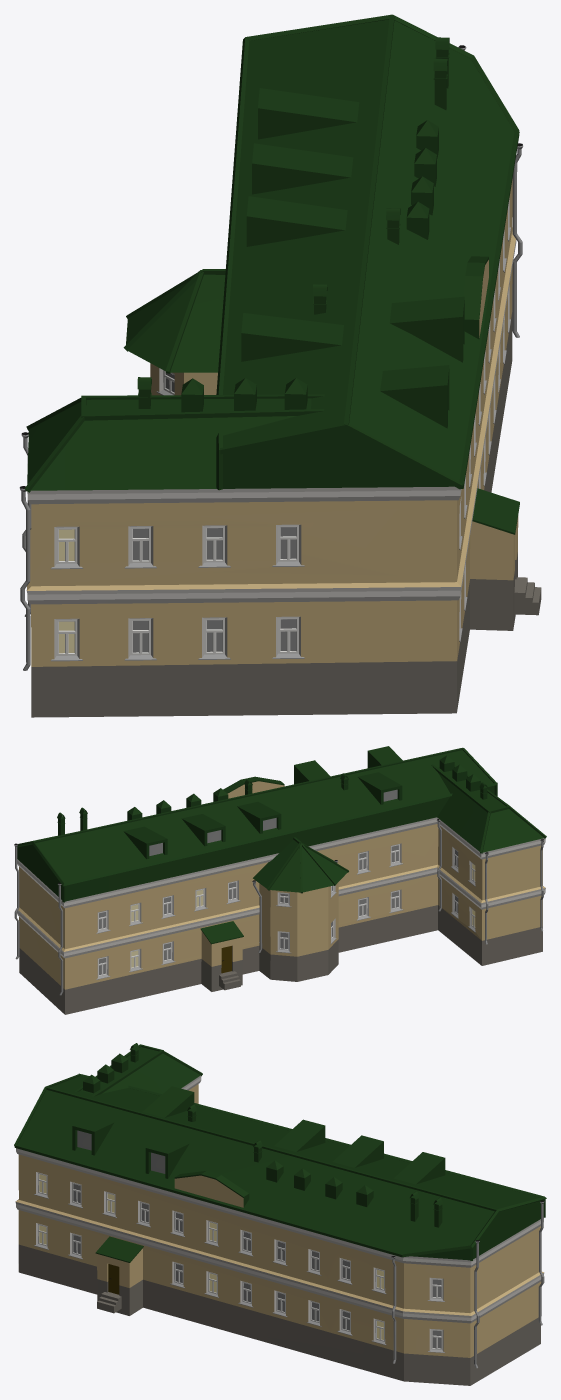
3 views of the same model, one above another, from view 1: azimuth 30°, elevation 25°; view 2: azimuth 150°, elevation 25°; view 3: azimuth 270°, elevation 25° (orthographic). The views are drawn at different scales.
Visible parts, largest first — view 1: 01020-50@117300; view 2: 01020-50@117300; view 3: 01020-50@117300.
Boxes of the visible parts, <box> form: 01020-50@117300: <box>19,14,541,717</box>; 01020-50@117300: <box>14,746,546,1014</box>; 01020-50@117300: <box>14,1043,546,1385</box>.
Size of the model in its own units: 33.27 by 13.06 by 36.59.
Materials: 1 (1 with a texture image).
